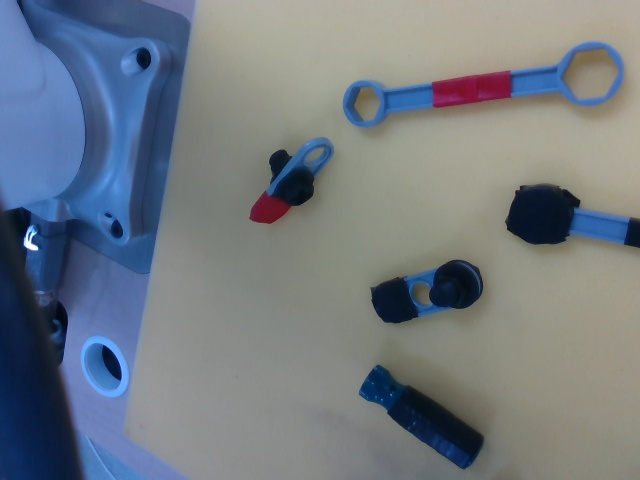part_1_good: (248, 136, 335, 227)
